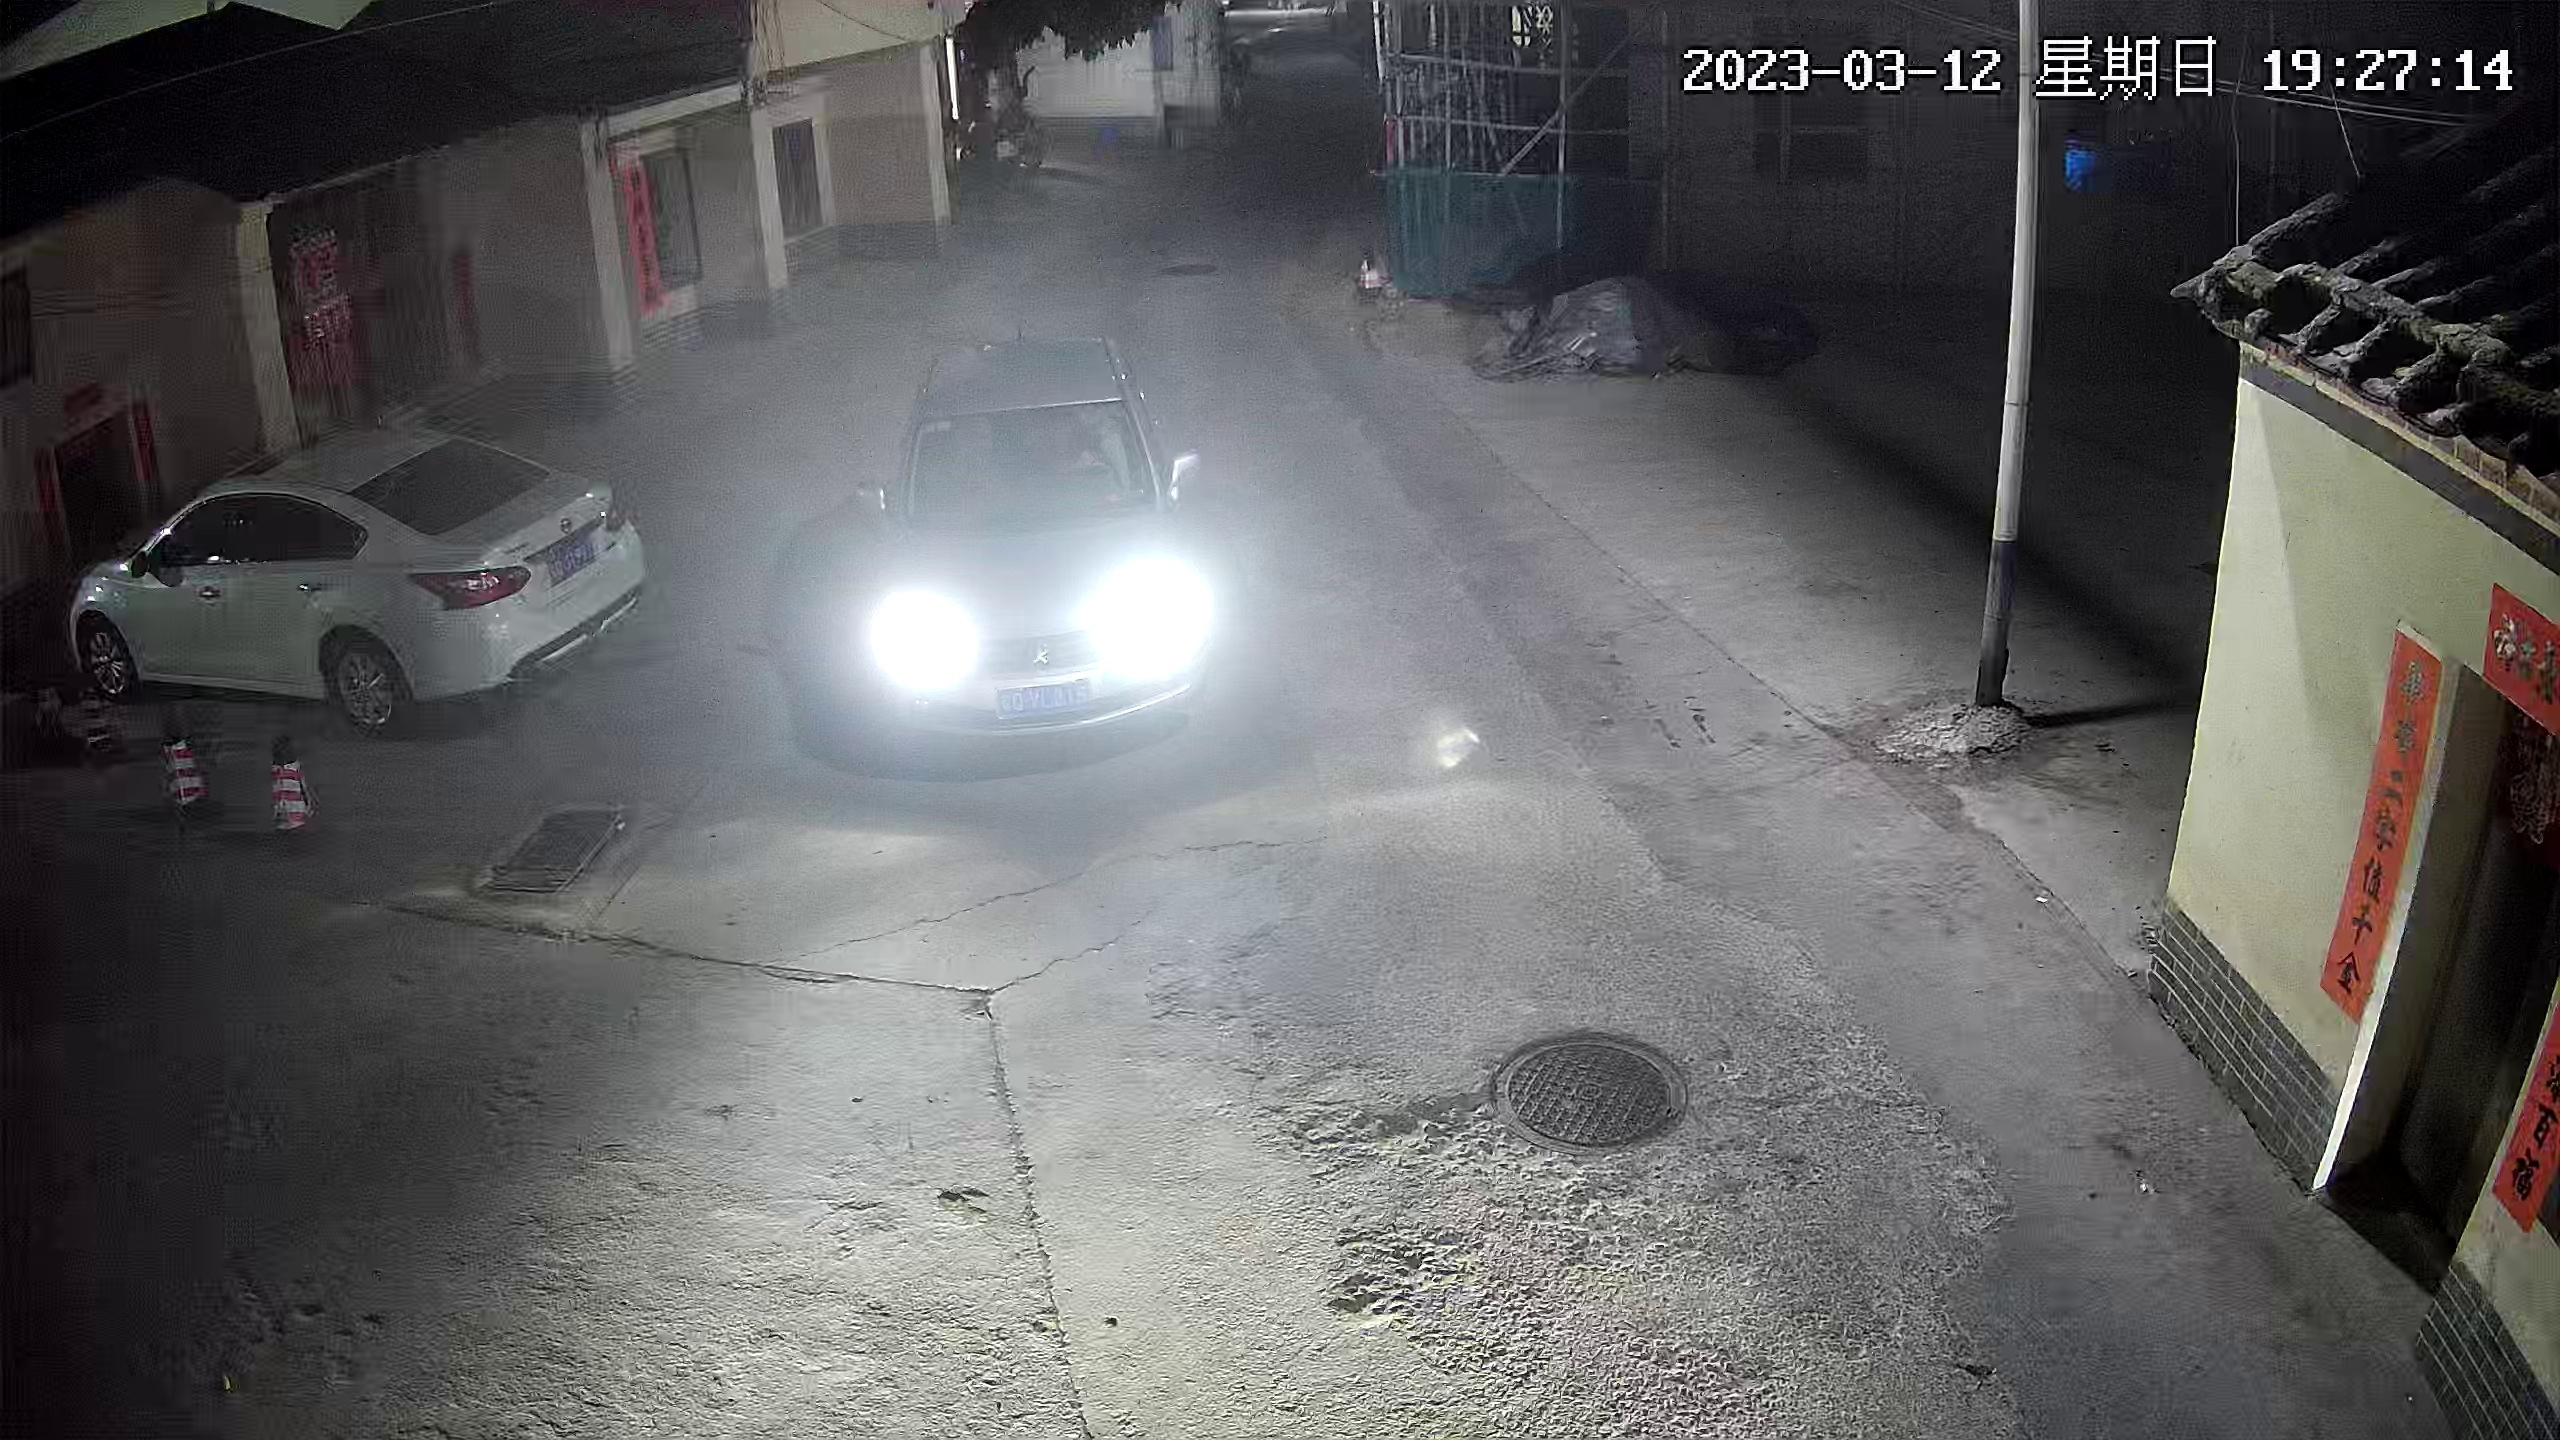sedan: (72, 424, 644, 728), (893, 339, 1229, 775)
